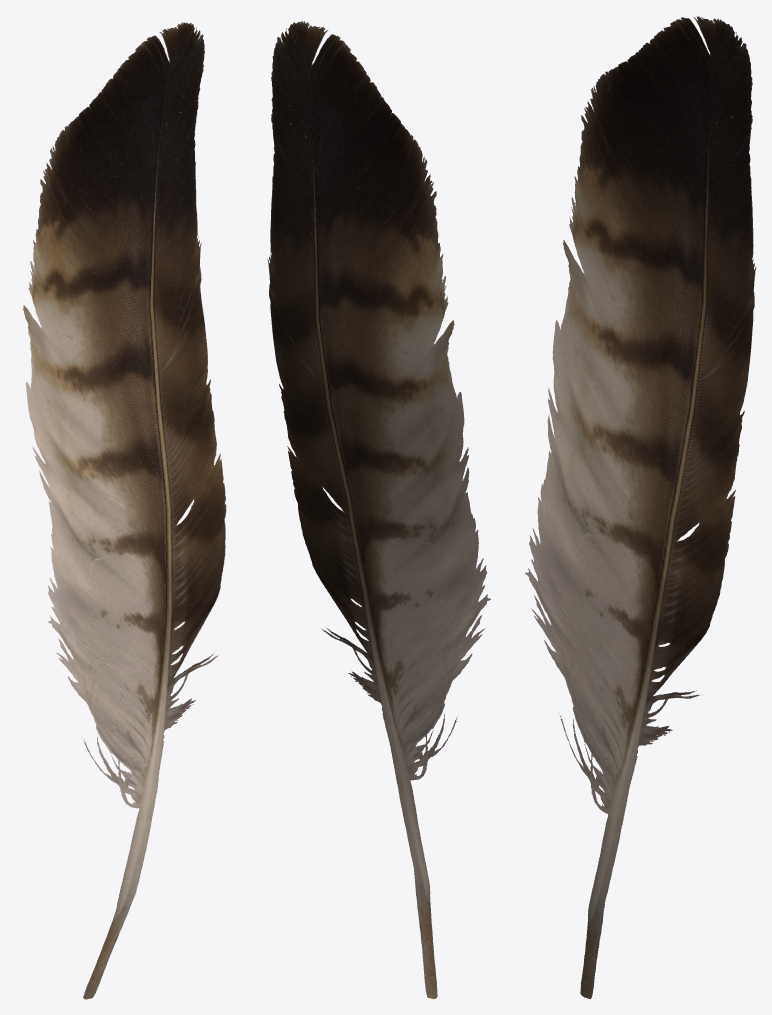
Rendered from great feather.fbx.
3 renders of one model, left to right at view 1: azimuth 30°, elevation 25°; view 2: azimuth 150°, elevation 25°; view 3: azimuth 330°, elevation 25°, orthographic. The views are drawn at different scales.
Parts seen in each view (by area): view 1: eagle feather; view 2: eagle feather; view 3: eagle feather.
Boxes of the visible parts, x1,y1,x2,y2 form: eagle feather: [23, 22, 226, 999]; eagle feather: [267, 21, 490, 999]; eagle feather: [525, 16, 756, 999].
Bounding box in the file's own units: 21.51 × 100 × 8.1.
